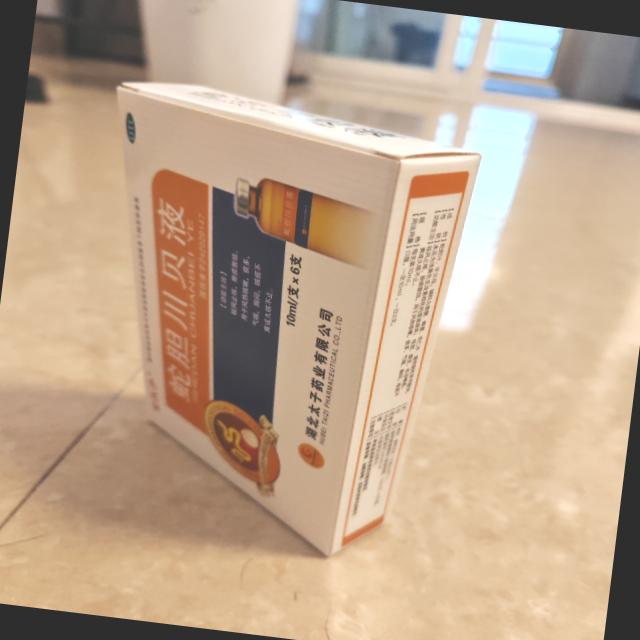box: (48, 64, 494, 577)
